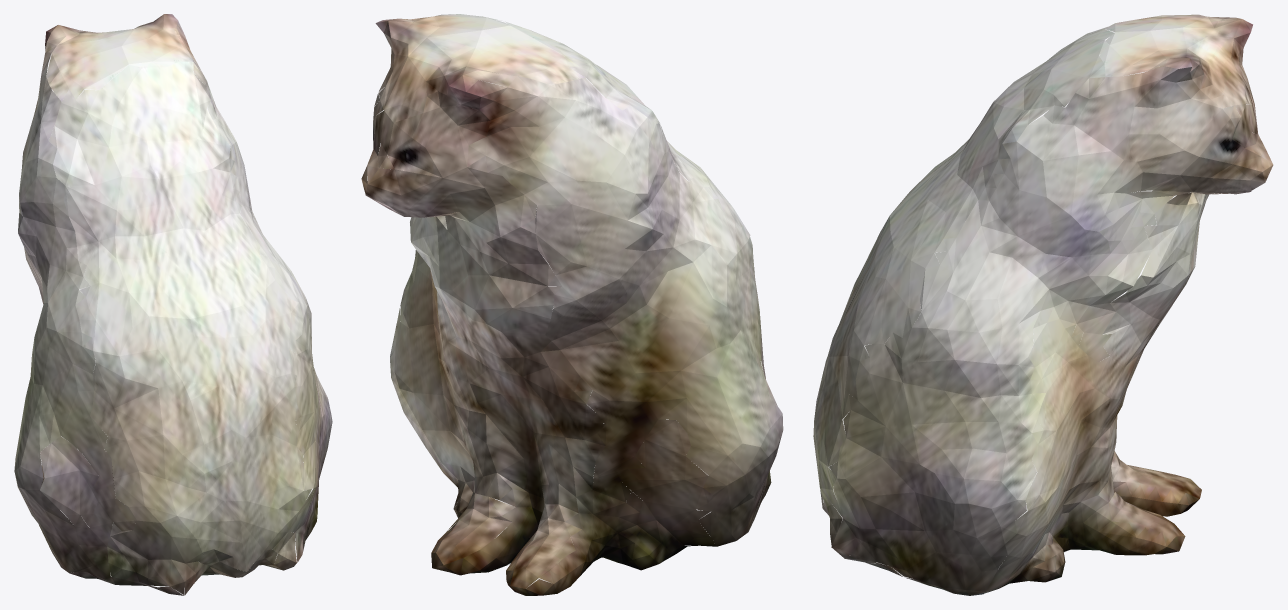
File: pisica.glb
The picture shows the model from 3 angles, left to right: view 1: azimuth 30°, elevation 25°; view 2: azimuth 150°, elevation 25°; view 3: azimuth 270°, elevation 25°; orthographic projection. The views are drawn at different scales.
Parts seen in each view (by area): view 1: geometry_0; view 2: geometry_0; view 3: geometry_0.
Part boxes in pixels (<box>): geometry_0: <box>14,14,332,595</box>; geometry_0: <box>361,14,783,595</box>; geometry_0: <box>813,14,1273,595</box>.
Size of the model in its own units: 0.6392 by 0.9156 by 0.7246.
1 material, 1 textured.
